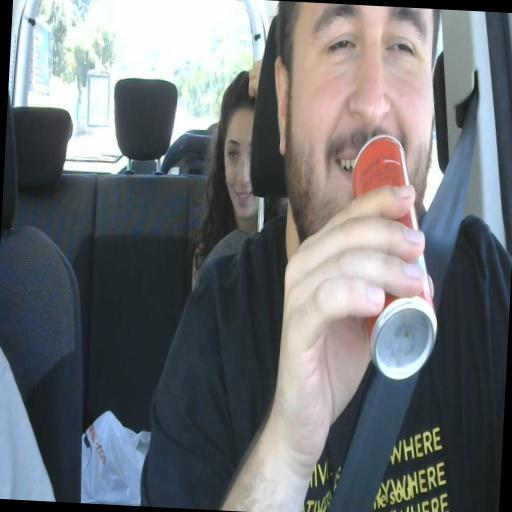Drinking: (274, 10, 438, 380)
